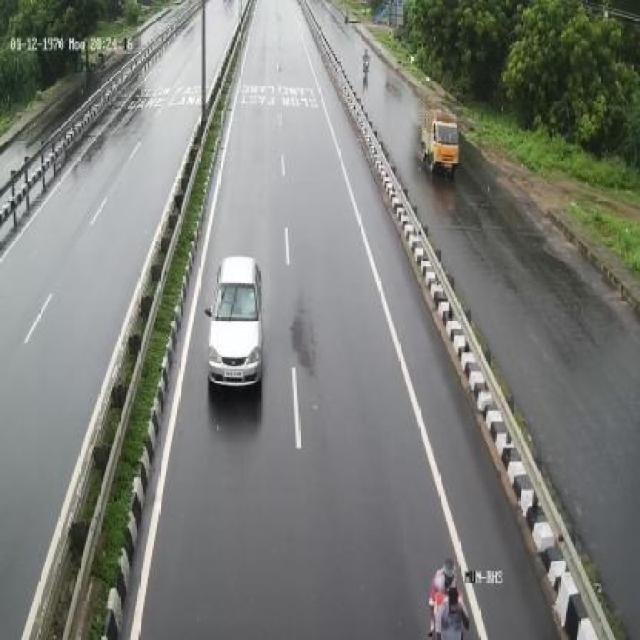car: (206, 248, 268, 409)
